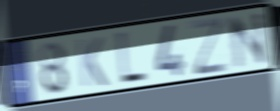4: (154, 22, 189, 79)
8: (36, 40, 70, 96)
K: (75, 35, 110, 89)
L: (114, 29, 149, 88)
N: (226, 9, 270, 71)
Z: (188, 14, 230, 78)
